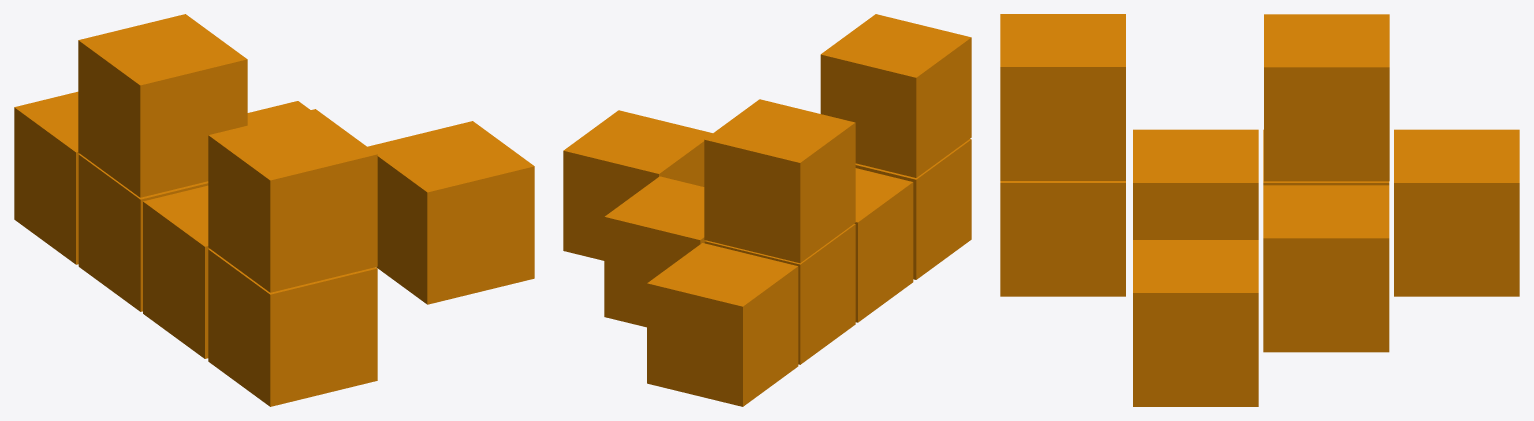
Rendered from Cargo.obj.
3 renders of one model, left to right at view 1: azimuth 30°, elevation 25°; view 2: azimuth 150°, elevation 25°; view 3: azimuth 270°, elevation 25°, orthographic. The views are drawn at different scales.
Parts seen in each view (by area): view 1: Cube.7, Cube.6, Cube.4, Cube.1, Cube.3, Cube.2, Cube, Cube.5; view 2: Cube.4, Cube.2, Cube.7, Cube.6, Cube.5, Cube.3, Cube.1, Cube; view 3: Cube.5, Cube.4, Cube.2, Cube.7, Cube.6, Cube.1, Cube.3, Cube.
Boxes of the visible parts, box(x1,y1,x2,y2) form: Cube.7: box(208, 109, 377, 292); Cube.6: box(367, 121, 534, 304); Cube.4: box(78, 14, 247, 197); Cube.1: box(208, 249, 377, 406); Cube.3: box(143, 185, 209, 358); Cube.2: box(14, 91, 79, 264); Cube: box(78, 154, 208, 311); Cube.5: box(247, 101, 310, 125); Cube.4: box(704, 99, 855, 262); Cube.2: box(647, 243, 798, 406); Cube.7: box(820, 14, 971, 177); Cube.6: box(563, 110, 712, 260); Cube.5: box(604, 176, 705, 327); Cube.3: box(854, 168, 913, 322); Cube.1: box(855, 139, 971, 279); Cube: box(704, 224, 855, 364); Cube.5: box(1263, 185, 1389, 352); Cube.4: box(1264, 14, 1389, 181); Cube.2: box(1394, 129, 1519, 296); Cube.7: box(1000, 14, 1125, 180); Cube.6: box(1133, 240, 1258, 406); Cube.1: box(1000, 181, 1125, 296); Cube.3: box(1133, 129, 1258, 239); Cube: box(1263, 129, 1389, 185).
Size of the model in its own units: 44.65 by 29.29 by 60.05.
